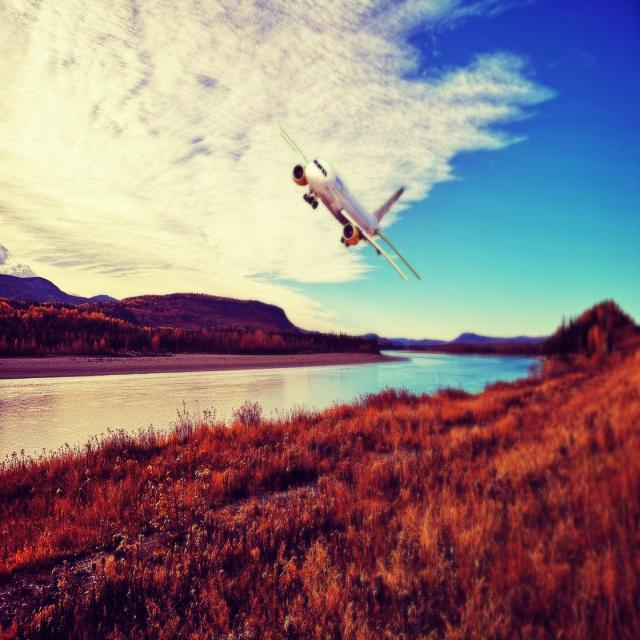airplane: (278, 126, 421, 282)
